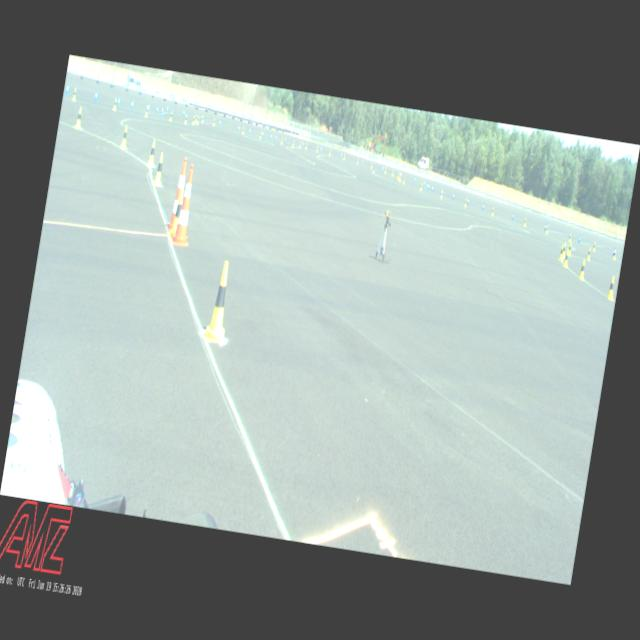blue_cone: (94, 90, 98, 102), (130, 99, 134, 110), (66, 84, 70, 95), (161, 105, 165, 115), (578, 234, 582, 244), (156, 105, 160, 114), (543, 223, 547, 232), (612, 247, 616, 256), (218, 119, 222, 127), (182, 109, 186, 116), (248, 128, 252, 134), (275, 134, 278, 142), (452, 192, 455, 200), (423, 181, 426, 188), (467, 198, 470, 205), (431, 185, 434, 192), (200, 114, 203, 121), (118, 96, 120, 106), (482, 202, 484, 211), (166, 106, 169, 112), (512, 212, 514, 220), (302, 140, 304, 148), (238, 124, 240, 132), (148, 104, 150, 112), (426, 183, 428, 190), (270, 133, 272, 140), (262, 131, 264, 138), (428, 184, 430, 191), (414, 177, 416, 183), (320, 146, 322, 152), (284, 137, 286, 143)
large_orange_cone: (170, 163, 201, 248), (165, 156, 189, 232)
yellow_cone: (202, 258, 239, 344), (168, 188, 184, 238), (153, 152, 167, 186), (146, 139, 158, 167), (606, 276, 618, 301), (120, 125, 131, 149), (74, 108, 84, 130), (578, 259, 588, 281), (562, 250, 570, 268), (558, 245, 566, 262), (562, 242, 568, 258), (72, 88, 78, 101), (112, 98, 118, 111), (586, 248, 592, 260), (144, 106, 150, 117), (568, 243, 573, 256), (463, 198, 468, 207), (592, 242, 596, 252), (280, 136, 284, 146), (169, 111, 173, 121), (613, 250, 617, 260), (192, 116, 196, 125), (490, 207, 494, 216), (184, 115, 188, 124), (568, 233, 572, 242), (196, 116, 200, 125), (546, 225, 550, 234), (202, 115, 206, 124), (212, 118, 216, 126), (398, 173, 402, 181), (402, 176, 406, 184), (524, 218, 528, 226), (440, 189, 443, 199), (259, 131, 262, 140), (242, 126, 245, 134), (292, 140, 295, 148), (298, 142, 302, 148), (396, 172, 399, 180), (384, 167, 387, 174), (371, 162, 374, 169), (305, 143, 308, 150), (420, 182, 422, 191), (196, 115, 198, 124), (343, 154, 346, 160), (392, 170, 394, 177), (316, 146, 318, 153), (357, 158, 359, 165), (329, 150, 331, 156)
